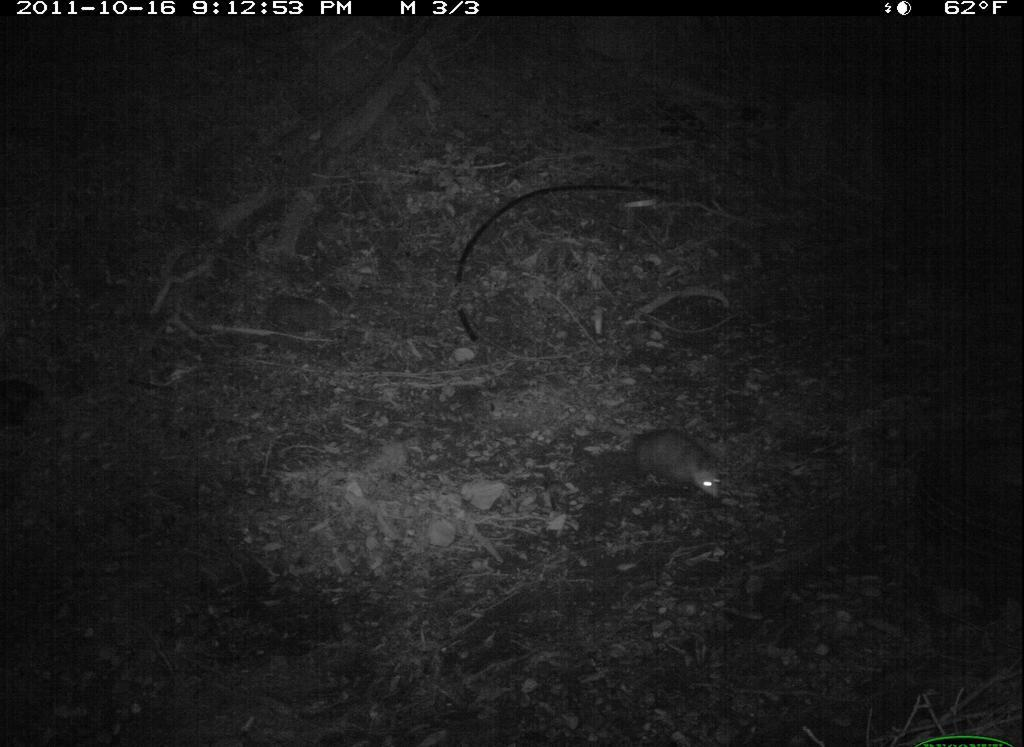opossum: (598, 413, 728, 509)
